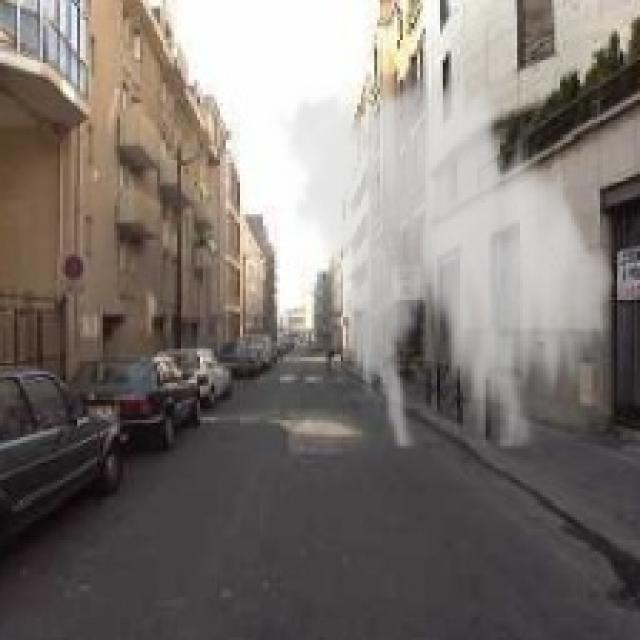smoke: (268, 63, 626, 448)
